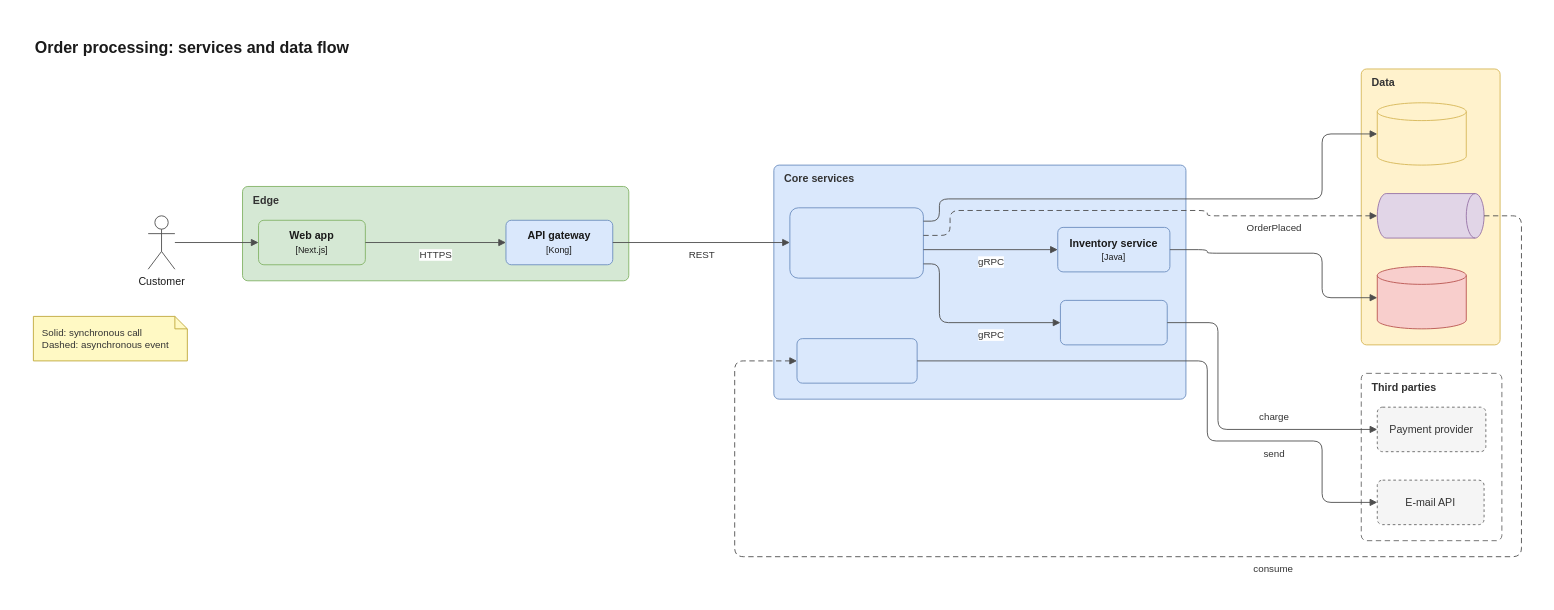
Image size: 1554x610. Some labels were removed from this diagram. The centre of each missing label's shape, as x and y in pixels:
"Billing service [Python]" goes at (x=1113, y=322).
"Notification worker [Node.js]" goes at (x=856, y=360).
"Order service [Go] Owns the order lifecycle." goes at (x=856, y=242).
"order-events [Kafka topic]" goes at (x=1430, y=215).
"Orders DB [PostgreSQL]" goes at (x=1421, y=133).
"Stock cache [Redis]" goes at (x=1421, y=297).
